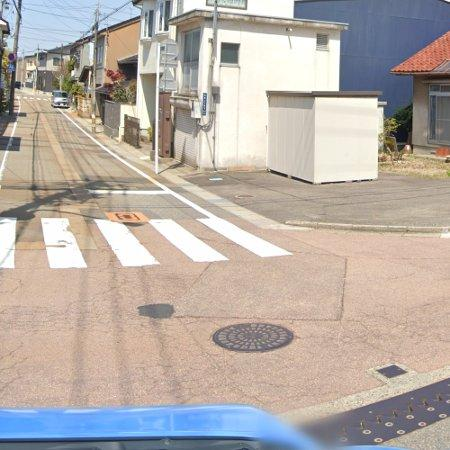crosswalks: (0, 218, 291, 269)
